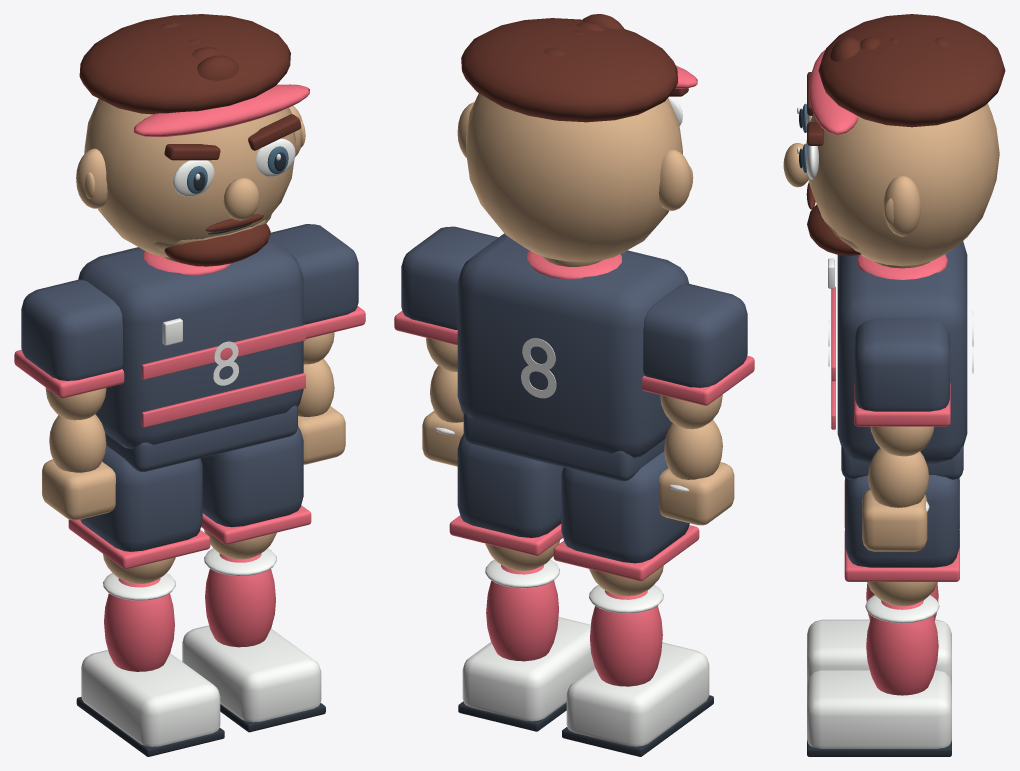
File: Aras.fbx
3 renders of one model, left to right at view 1: azimuth 30°, elevation 25°; view 2: azimuth 150°, elevation 25°; view 3: azimuth 270°, elevation 25°, orthographic. The views are drawn at different scales.
Visible parts, largest first — view 1: Torso, Head, HairCap, Boot_Left, Boot_Right, Sleeve_Left, Shorts_Left, Shorts_Right, Sleeve_Right, Sock_Left, Sock_Right, Waist (+29 smaller); view 2: Torso, Head, HairCap, Shorts_Left, Boot_Left, Sleeve_Left, Shorts_Right, Boot_Right, Sleeve_Right, Sock_Left, Sock_Right, Waist (+19 smaller); view 3: Head, HairCap, Torso, Boot_Right, Sleeve_Right, Shorts_Right, Sock_Right, Boot_Left, Hand_Right, Forearm_Right, ShortHem_Right, SleeveCuff_Right (+13 smaller).
Part boxes in pixels (box(x1,y1,x2,y2)): Torso: box(78, 238, 303, 448); Head: box(84, 99, 295, 257); HairCap: box(79, 14, 290, 114); Boot_Left: box(81, 650, 220, 746); Boot_Right: box(182, 625, 321, 722); Sleeve_Left: box(21, 279, 122, 380); Shorts_Left: box(80, 445, 202, 551); Shorts_Right: box(200, 426, 303, 527); Sleeve_Right: box(269, 224, 358, 324); Sock_Left: box(104, 578, 174, 671); Sock_Right: box(205, 553, 275, 647); Waist: box(105, 405, 297, 471); Torso: box(457, 233, 689, 457); Head: box(466, 93, 682, 262); HairCap: box(461, 18, 677, 122); Shorts_Left: box(561, 451, 689, 563); Boot_Left: box(566, 642, 709, 746); Sleeve_Left: box(643, 283, 747, 387); Shorts_Right: box(457, 434, 563, 537); Boot_Right: box(462, 617, 594, 721); Sleeve_Right: box(401, 226, 498, 329); Sock_Left: box(590, 590, 662, 686); Sock_Right: box(486, 565, 558, 661); Waist: box(463, 413, 665, 481); Head: box(806, 103, 999, 265); HairCap: box(818, 14, 1005, 127); Torso: box(837, 241, 967, 463); Boot_Right: box(807, 669, 951, 748); Sleeve_Right: box(854, 318, 949, 411); Shorts_Right: box(845, 475, 959, 567); Sock_Right: box(866, 600, 938, 695); Boot_Left: box(807, 619, 951, 683); Hand_Right: box(862, 490, 927, 551); Forearm_Right: box(868, 448, 928, 507); ShortHem_Right: box(844, 530, 959, 581); SleeveCuff_Right: box(854, 383, 950, 426).
Bounding box in the file's own units: 94 × 195 × 58.15.
